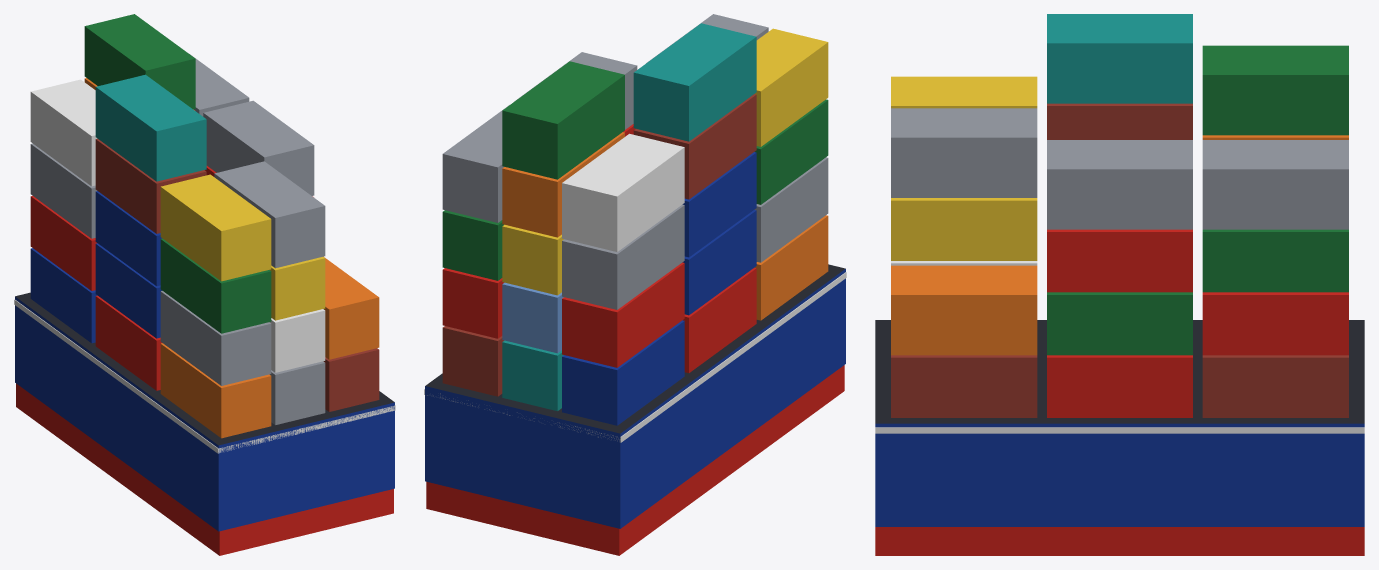
Rendered from buque_carga_2.obj.
3 renders of one model, left to right at view 1: azimuth 30°, elevation 25°; view 2: azimuth 150°, elevation 25°; view 3: azimuth 270°, elevation 25°, orthographic. The views are drawn at different scales.
Visible parts, largest first — view 1: buque_carga_2; view 2: buque_carga_2; view 3: buque_carga_2.
Boxes of the visible parts, x1,y1,x2,y2 form: buque_carga_2: (14, 14, 395, 555); buque_carga_2: (424, 14, 846, 555); buque_carga_2: (875, 14, 1364, 555).
Size of the model in its own units: 9.06 by 18.05 by 18.
